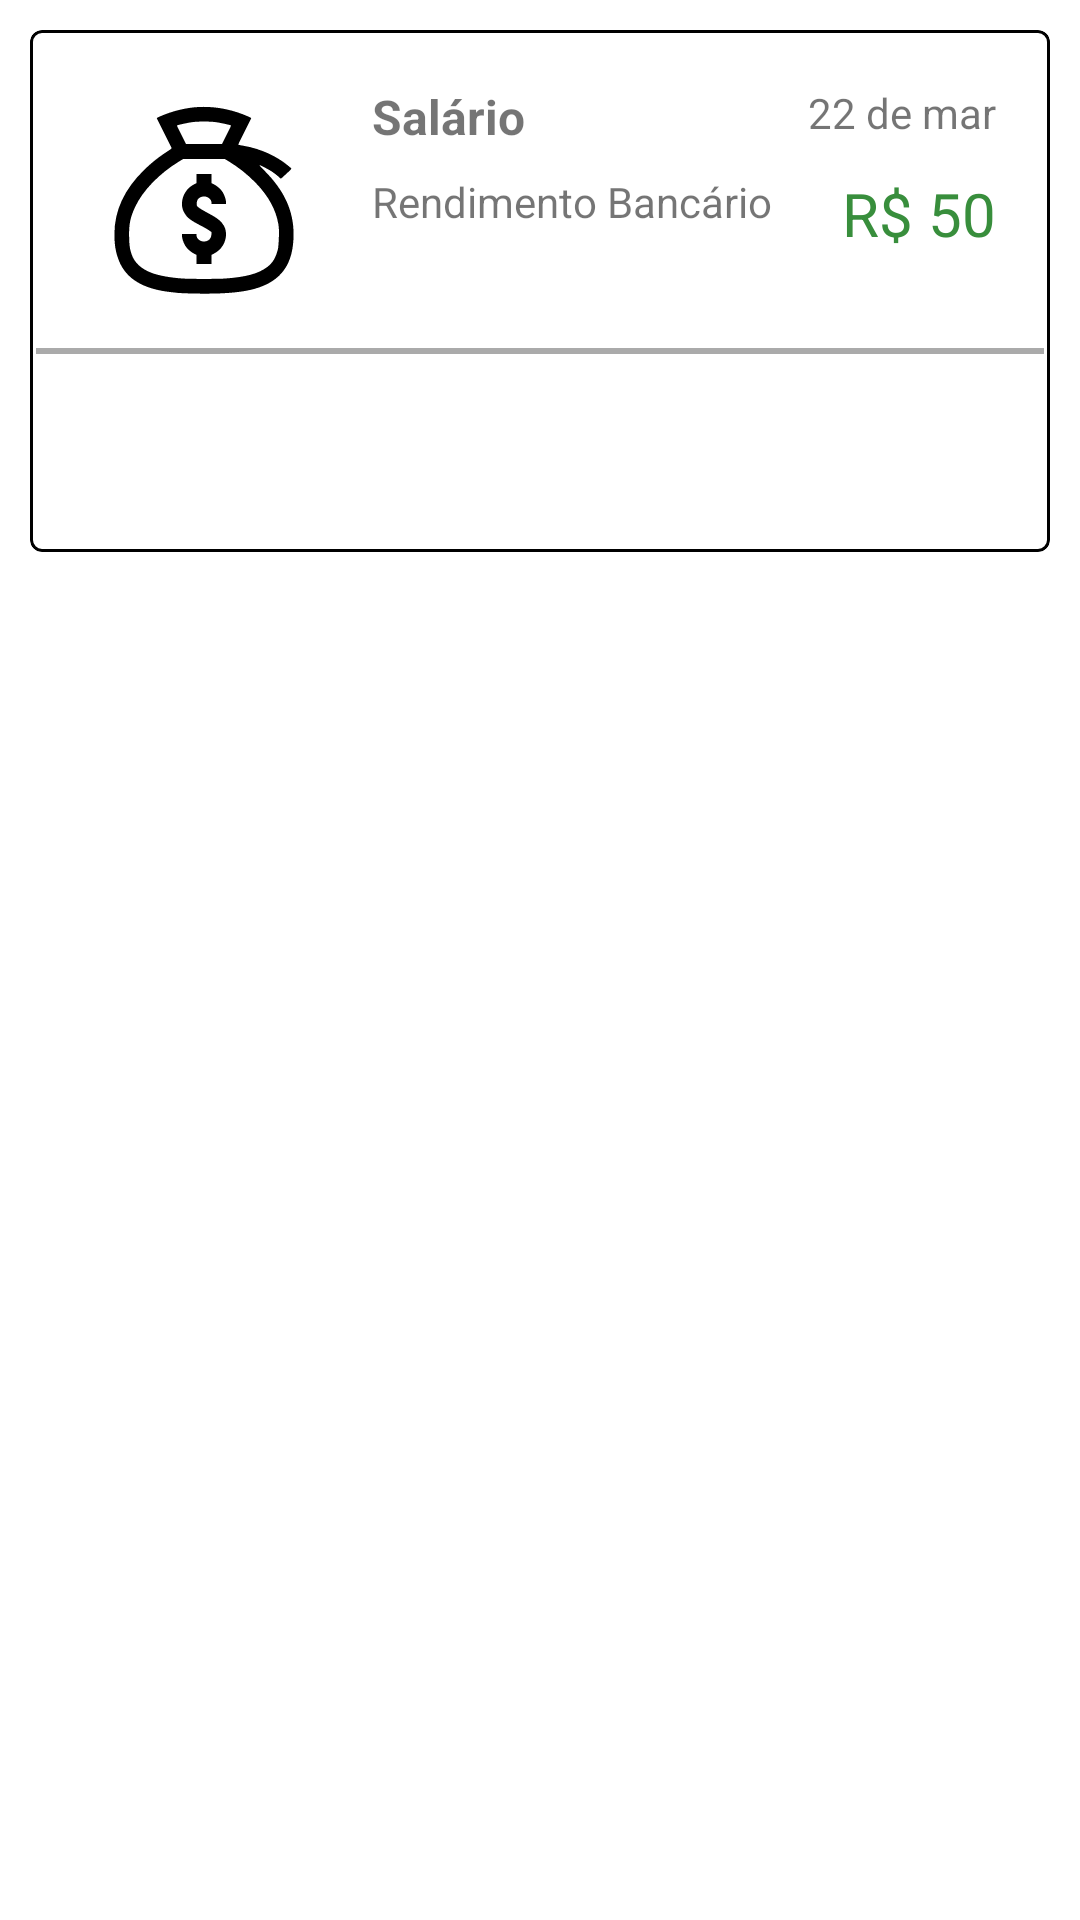

Icon bounding boxes for this 1080px x 1920px phone screenshot, format (x1=x1, y1=y1, x2=x2, y2=y2):
saco dinheiro: (x1=114, y1=106, x2=294, y2=294)
